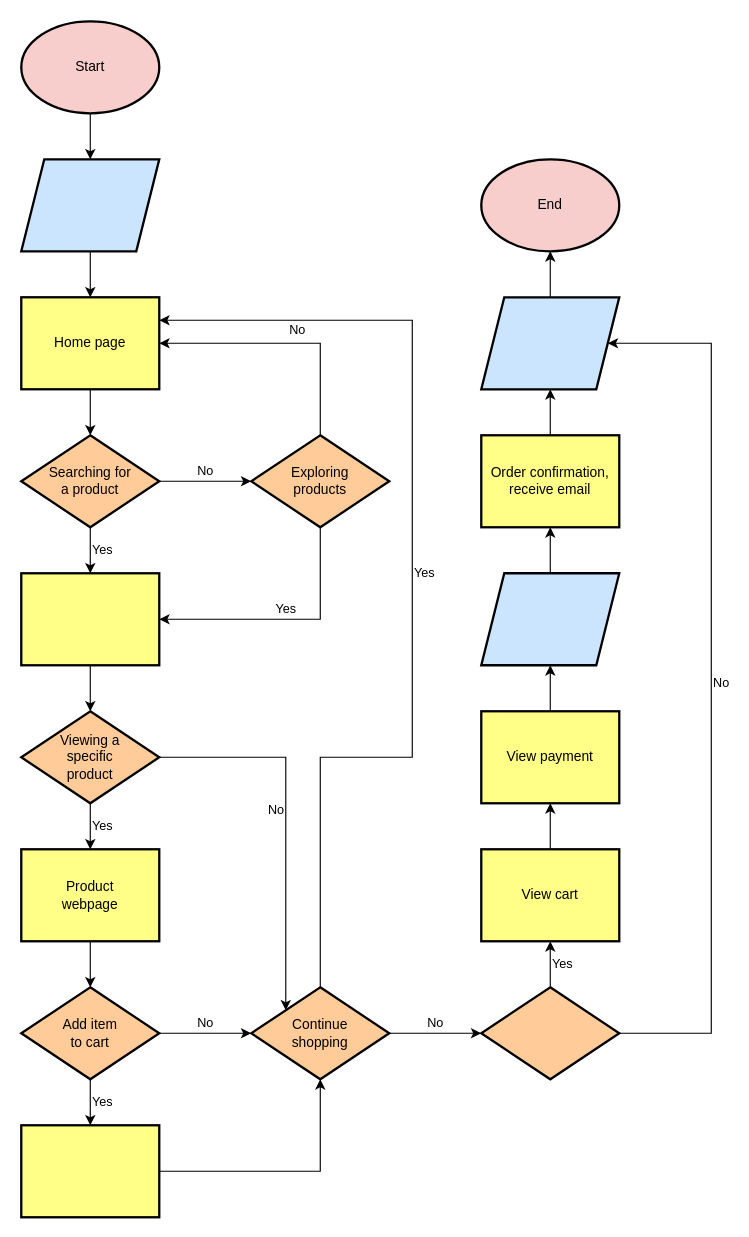
Image size: 749x1237. Some labels were removed from this diagram. Here are the shapes that lost their labels. From the top down, the box of each, then its label:
(20, 158, 160, 252): User enters website
(480, 296, 620, 390): User leaves website
(20, 572, 160, 666): Look over the products
(480, 572, 620, 666): Payment information
(480, 986, 620, 1080): Checkout
(20, 1124, 160, 1218): Added to cart confirmation
